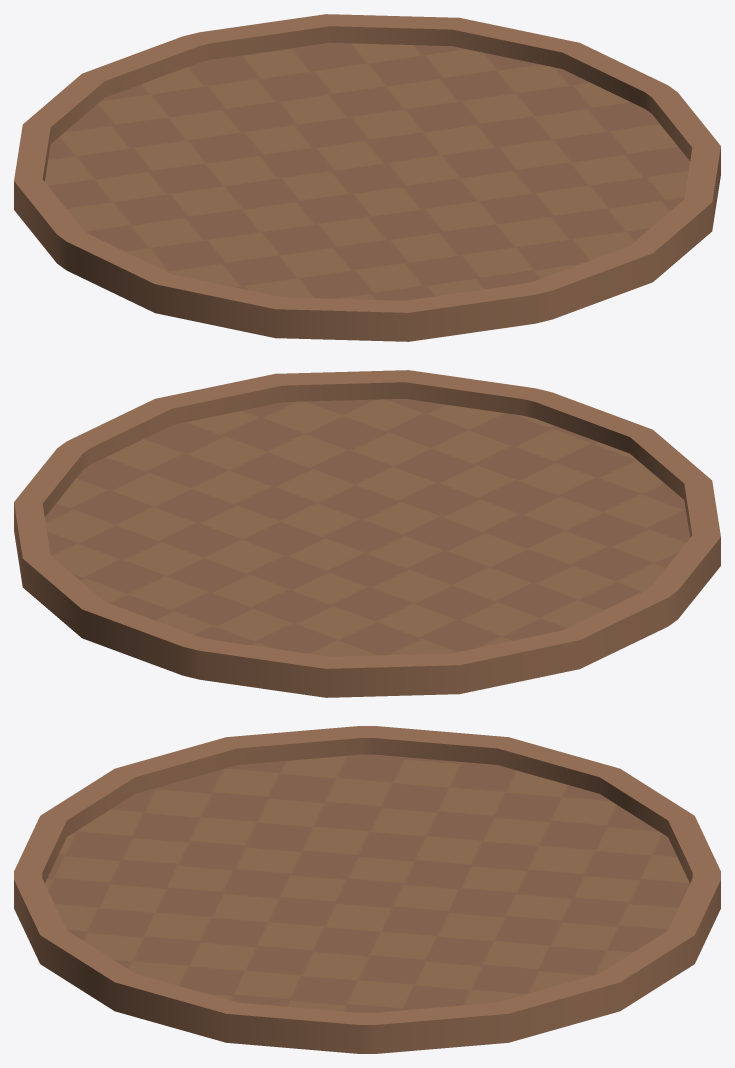
File: manhole.fbx
3 views of the same model, one above another, from view 1: azimuth 30°, elevation 25°; view 2: azimuth 150°, elevation 25°; view 3: azimuth 270°, elevation 25° (orthographic).
Parts seen in each view (by area): view 1: Cube; view 2: Cube; view 3: Cube.
Boxes of the visible parts, box(x1,y1,x2,y2) form: Cube: box(14, 14, 720, 341); Cube: box(14, 370, 720, 697); Cube: box(14, 726, 720, 1053).
Bounding box in the file's own units: 200 × 9.05 × 200.
